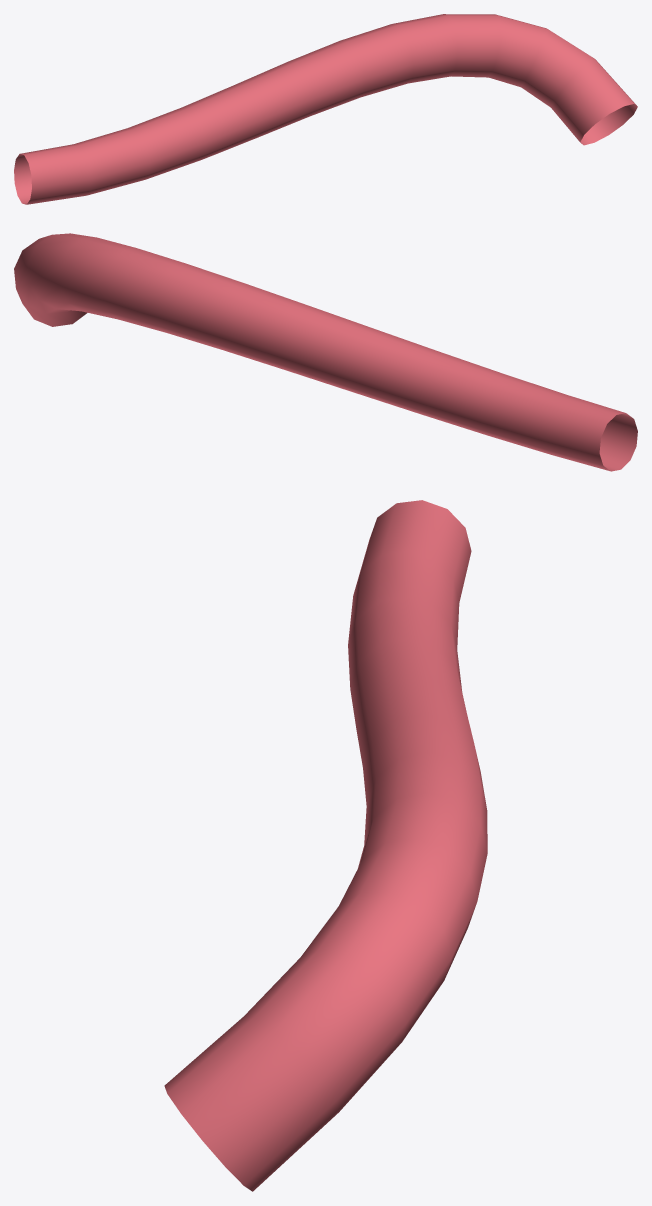
3 views of the same model, one above another, from view 1: azimuth 30°, elevation 25°; view 2: azimuth 150°, elevation 25°; view 3: azimuth 270°, elevation 25° (orthographic). The views are drawn at different scales.
Parts seen in each view (by area): view 1: ZA_4b3471cde5ca62b1; view 2: ZA_4b3471cde5ca62b1; view 3: ZA_4b3471cde5ca62b1.
Part boxes in pixels (bbox=[...]): ZA_4b3471cde5ca62b1: bbox=[14, 14, 637, 204]; ZA_4b3471cde5ca62b1: bbox=[14, 233, 637, 471]; ZA_4b3471cde5ca62b1: bbox=[164, 500, 487, 1191].
Size of the model in its own units: 0.0227 by 0.00467 by 0.00561.
